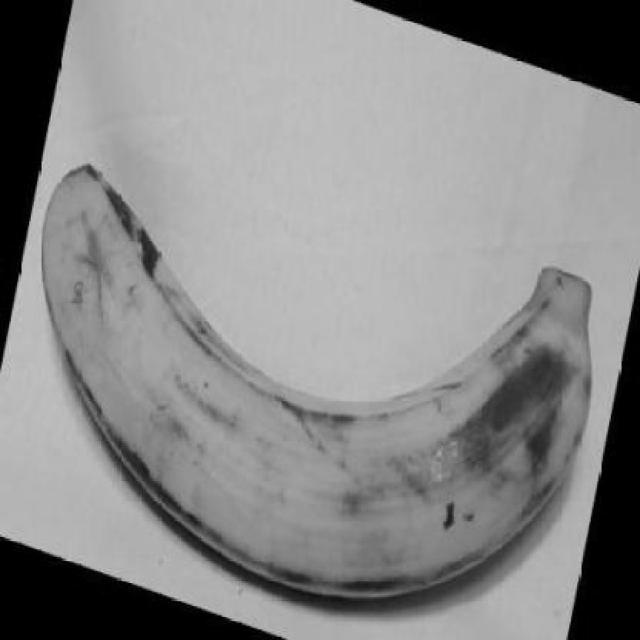Overripe: (18, 136, 640, 636)
